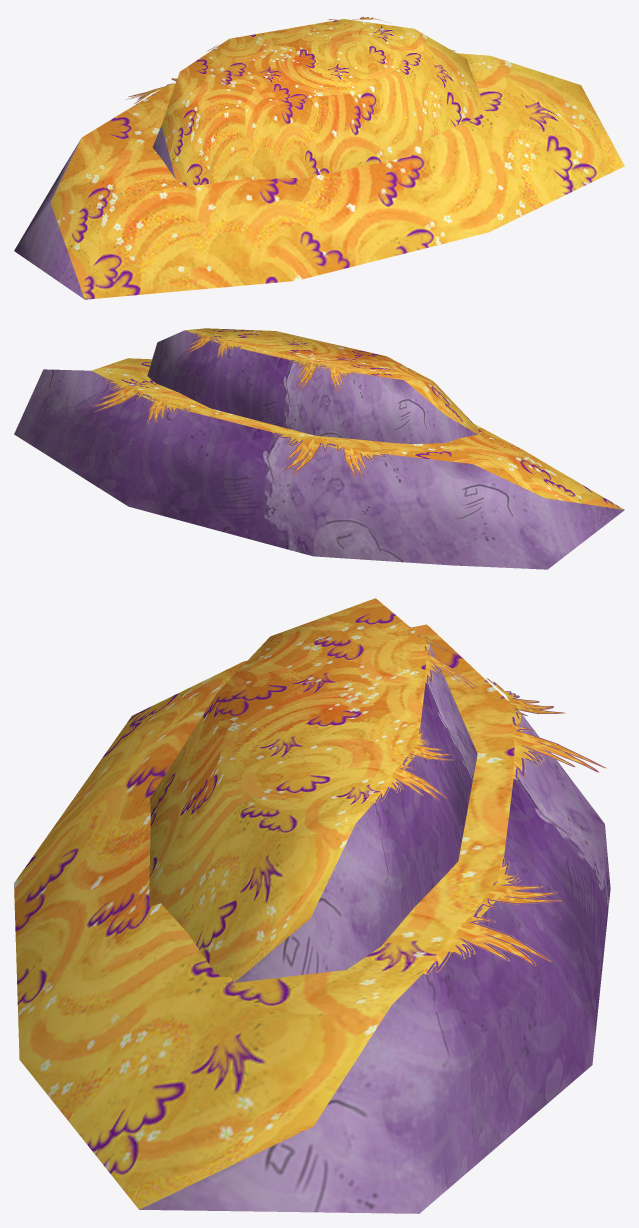
The model's file is s0_Terrain_Amount_02__1__01.glb.
3 views of the same model, one above another, from view 1: azimuth 30°, elevation 25°; view 2: azimuth 150°, elevation 25°; view 3: azimuth 270°, elevation 25° (orthographic). The views are drawn at different scales.
Parts seen in each view (by area): view 1: node_Terrain_Amount_02 (1); view 2: node_Terrain_Amount_02 (1); view 3: node_Terrain_Amount_02 (1).
Boxes of the visible parts, bbox=[...] form: node_Terrain_Amount_02 (1): bbox=[14, 16, 624, 299]; node_Terrain_Amount_02 (1): bbox=[14, 328, 624, 569]; node_Terrain_Amount_02 (1): bbox=[14, 598, 610, 1213].
Size of what is drawn, in the model's own units: 8.75 by 2.44 by 4.53.
Materials: 3 (3 with a texture image).
